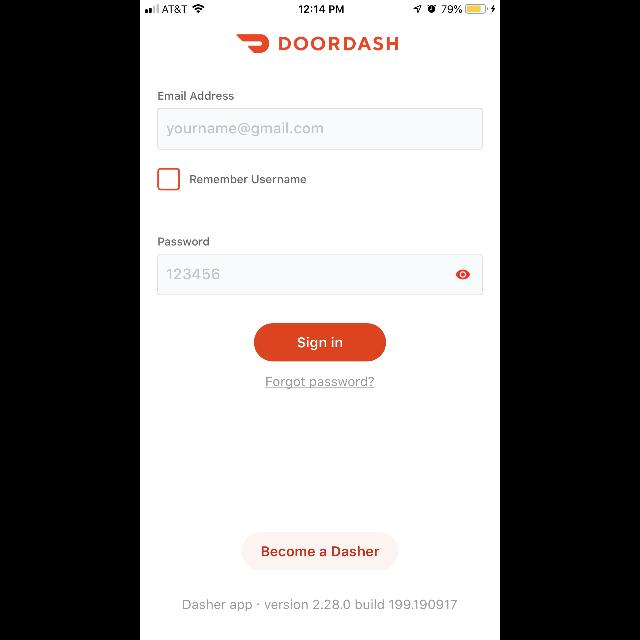checkbox: (157, 168, 180, 190)
icon: (456, 269, 470, 279)
image: (237, 34, 270, 54)
input: (158, 108, 482, 150), (158, 254, 482, 296)
text: (184, 599, 456, 611), (167, 124, 323, 136), (280, 37, 398, 51), (266, 377, 374, 389), (190, 175, 306, 183), (167, 268, 219, 280), (158, 92, 234, 100), (158, 238, 210, 246)
textbutton: (242, 532, 398, 570), (254, 323, 386, 361)
uppertaskbar: (140, 0, 500, 14)
